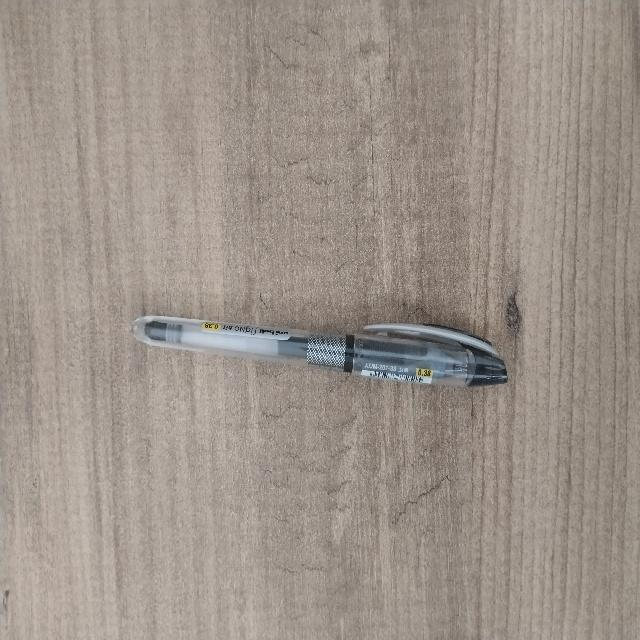pen: (132, 316, 506, 385)
